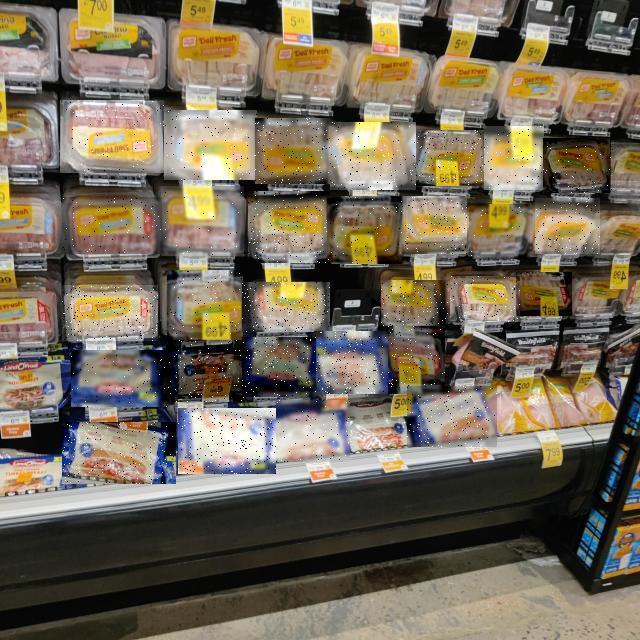Meat: (60, 100, 164, 173), (62, 422, 176, 484), (164, 110, 257, 180), (179, 408, 277, 474), (249, 191, 331, 263), (330, 122, 416, 190), (161, 186, 244, 256), (62, 197, 162, 254), (72, 350, 170, 407), (407, 386, 497, 447), (167, 270, 243, 342), (256, 118, 338, 184), (63, 285, 159, 341), (328, 196, 406, 264), (166, 340, 244, 402), (315, 331, 389, 394), (276, 400, 350, 462), (242, 337, 316, 397), (243, 282, 331, 332), (386, 327, 445, 395), (544, 138, 614, 193), (485, 126, 545, 190), (416, 131, 484, 187), (402, 197, 467, 255), (535, 199, 600, 255), (470, 204, 532, 259), (382, 280, 450, 329), (450, 276, 520, 322), (516, 272, 572, 316)
